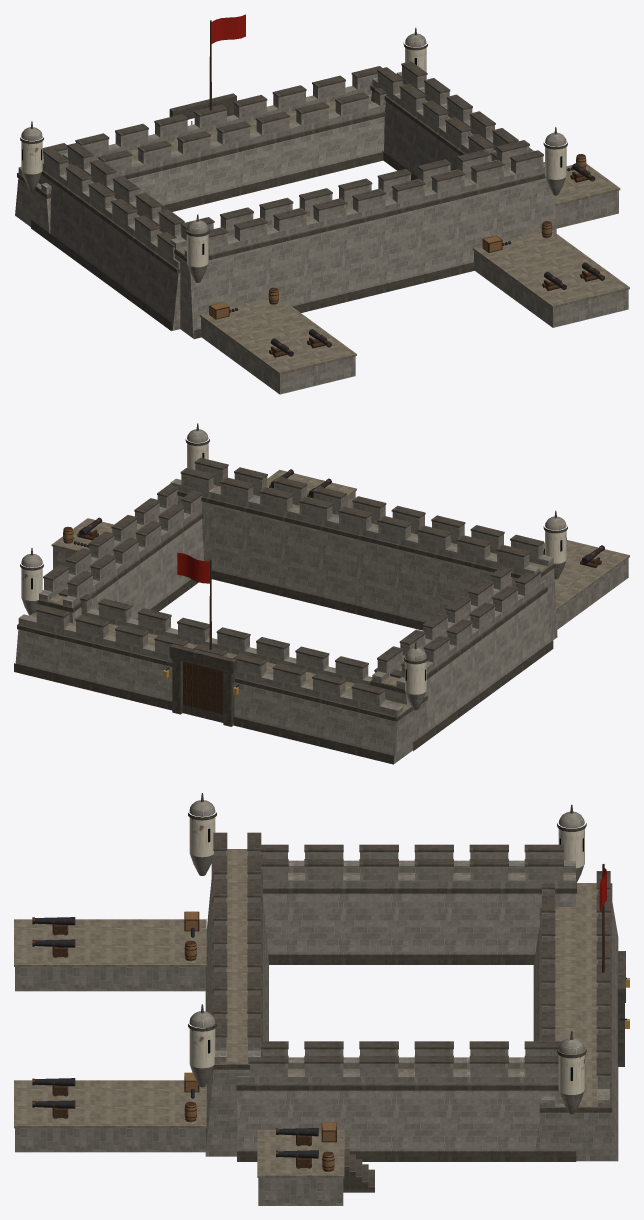
Rendered from SM_Art_CrownCitadelApproach.gltf.
3 renders of one model, top to bottom at view 1: azimuth 30°, elevation 25°; view 2: azimuth 150°, elevation 25°; view 3: azimuth 270°, elevation 25°, orthographic. The views are drawn at different scales.
Parts seen in each view (by area): view 1: SM_Art_CrownCitadelApproach; view 2: SM_Art_CrownCitadelApproach; view 3: SM_Art_CrownCitadelApproach.
Part boxes in pixels (x1,y1,x2,y2): SM_Art_CrownCitadelApproach: [15, 14, 629, 394]; SM_Art_CrownCitadelApproach: [14, 423, 629, 764]; SM_Art_CrownCitadelApproach: [14, 793, 629, 1205].
Bounding box in the file's own units: 30.88 × 9.65 × 29.1.
Materials: 10 (8 with a texture image).
